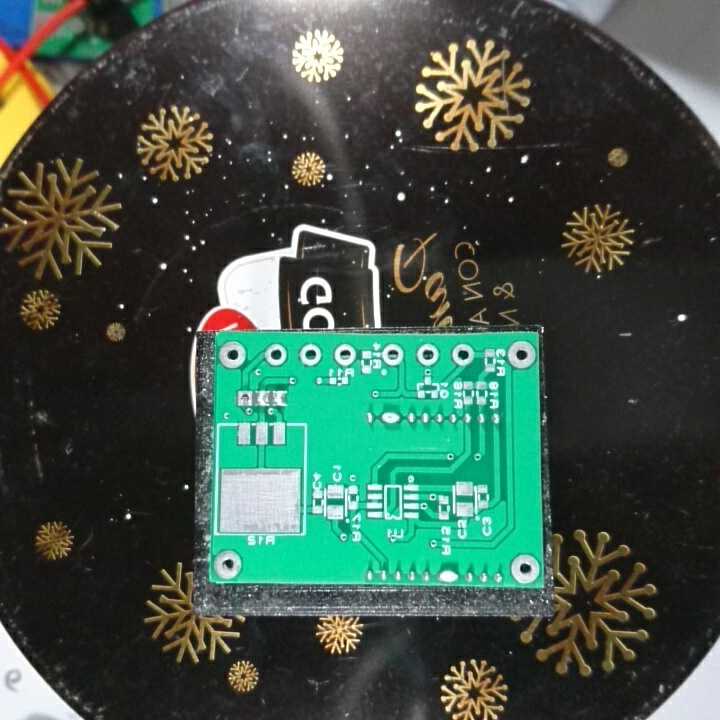F: (209, 548, 245, 583), (216, 338, 247, 372), (506, 339, 536, 373), (509, 554, 541, 585), (263, 341, 290, 369), (414, 340, 440, 369), (450, 341, 476, 370), (333, 340, 359, 368), (298, 341, 323, 369), (383, 342, 404, 371), (234, 387, 256, 410)
P: (379, 406, 402, 430), (435, 565, 459, 585)
